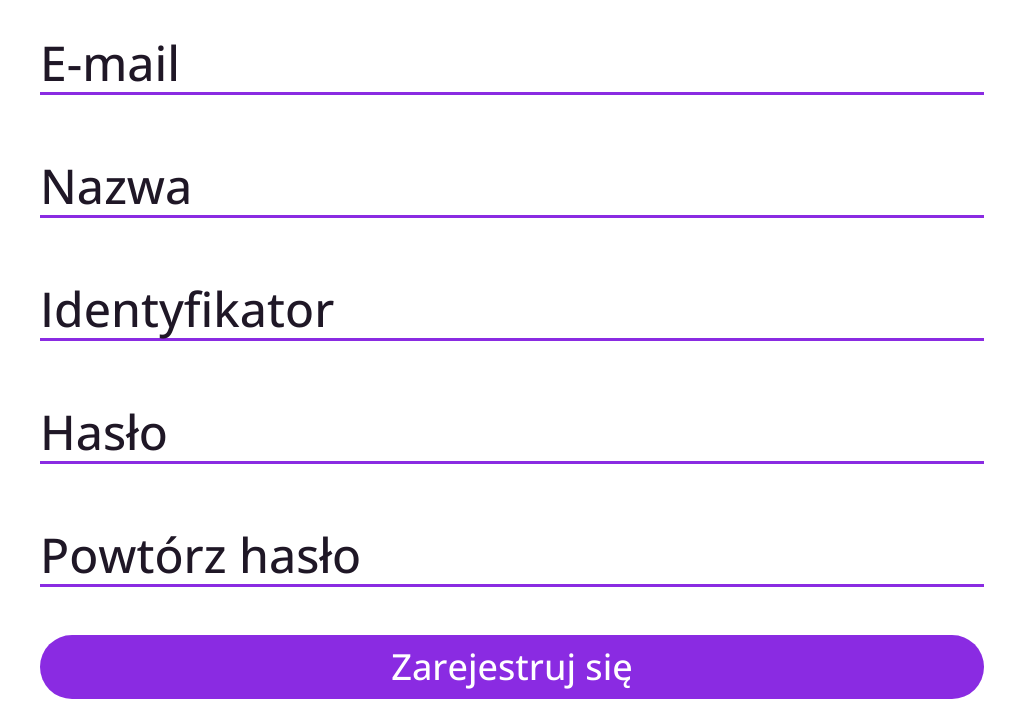
RegisterForm › passwords do not match › shows an error popup
Type "test@gmail.com" into the field named "E-mail" at x=512, y=66, box 40,36 -> 984,95
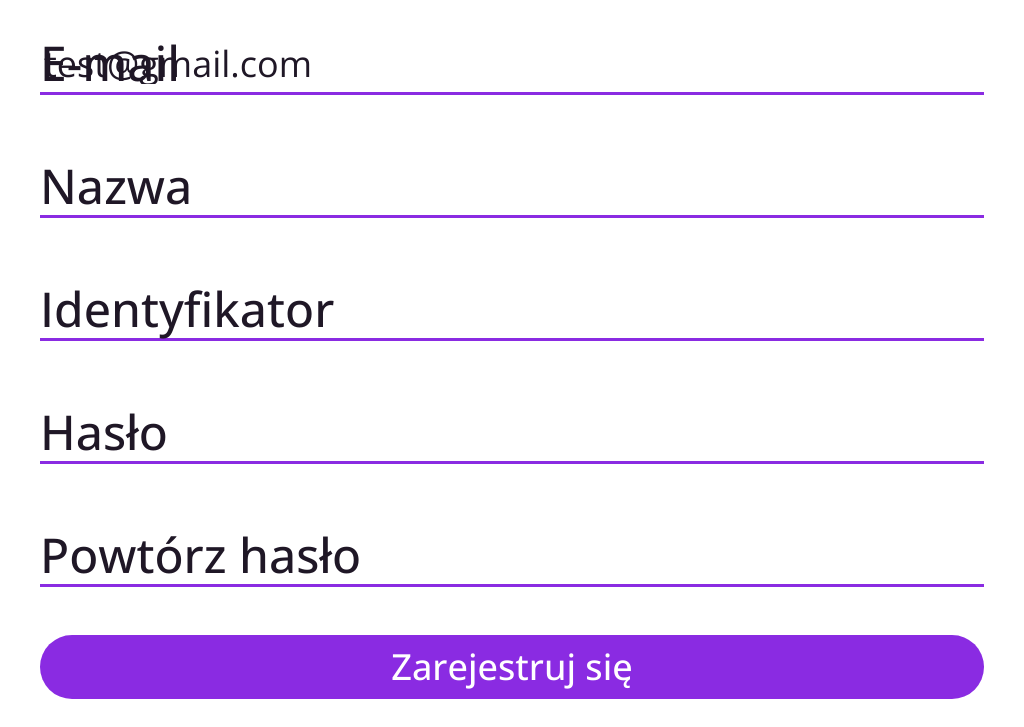
Type "Test User" into the field named "Nazwa" at x=512, y=188, box 40,159 -> 984,218
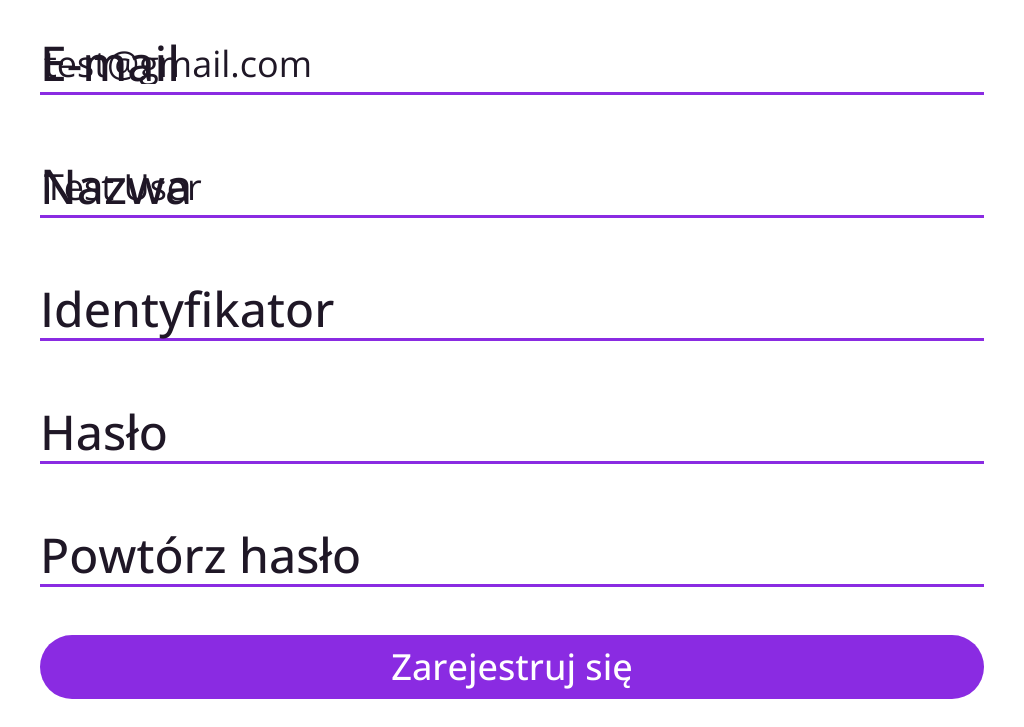
Type "testuser" into the field named "Identyfikator" at x=512, y=312, box 40,282 -> 984,341
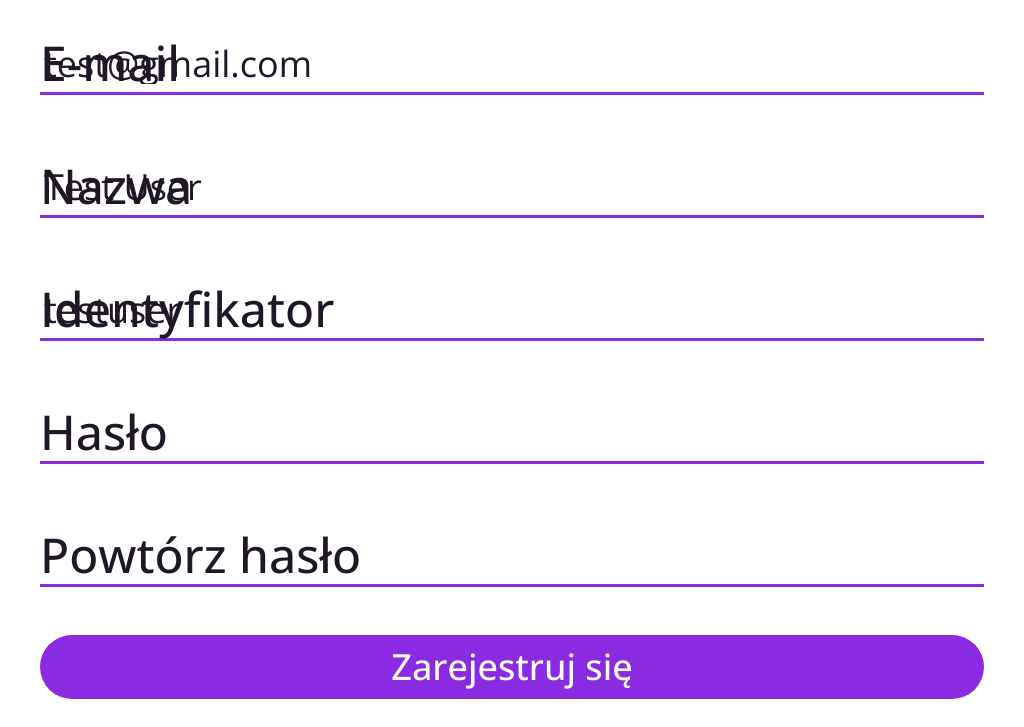
Type "qwerty123" into the password field named "Hasło" at x=512, y=434, box 40,405 -> 984,464
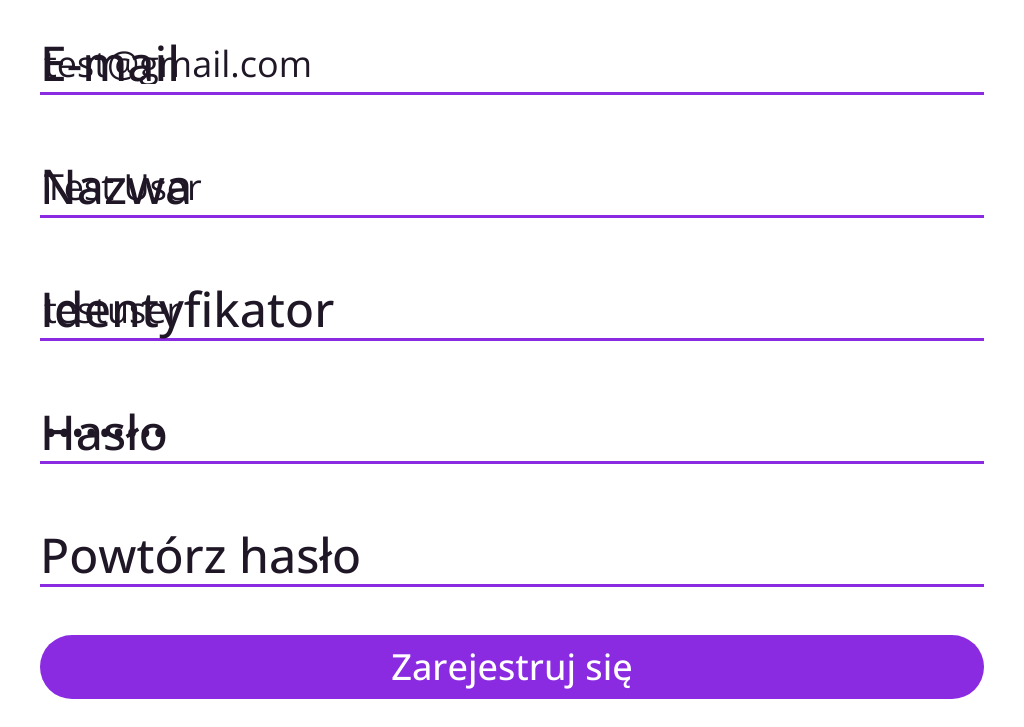
Type "qwerty12345" into the password field named "Powtórz hasło" at x=512, y=558, box 40,528 -> 984,587
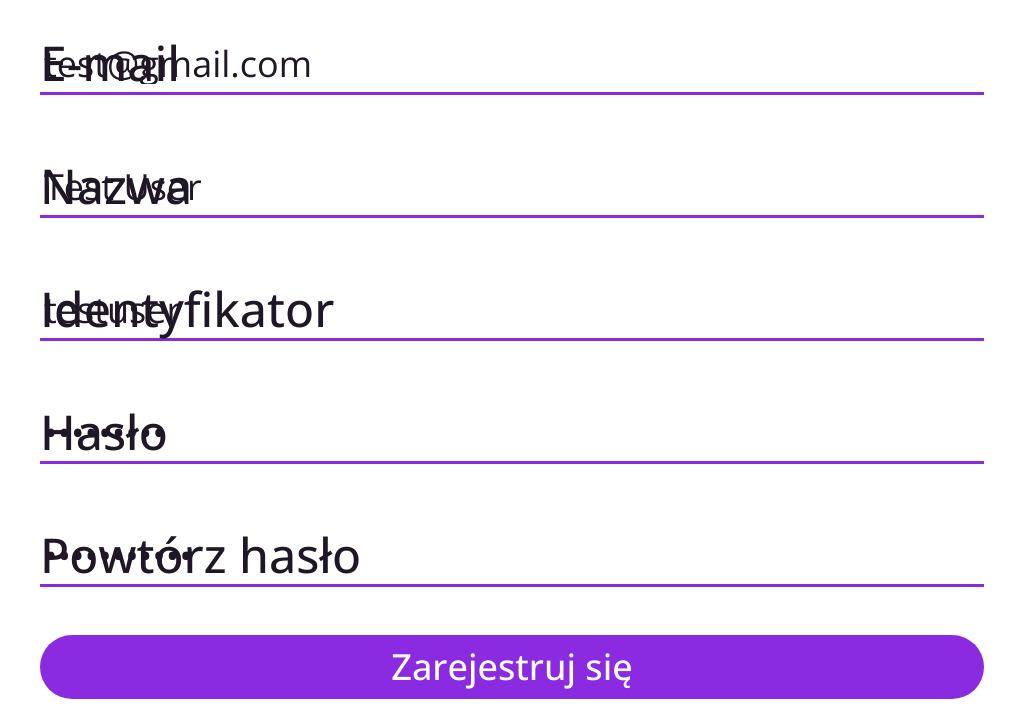
Click the button at x=512, y=667, box 40,635 -> 984,699
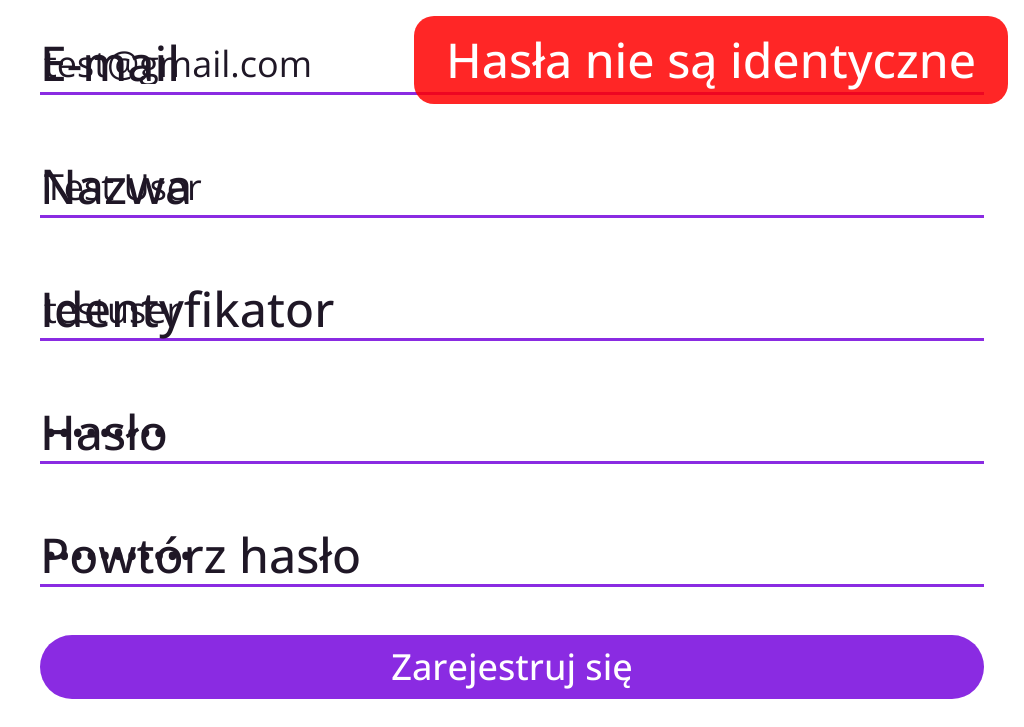
Expected: the message reads "Hasła nie są identyczne", 446,27 -> 976,92
